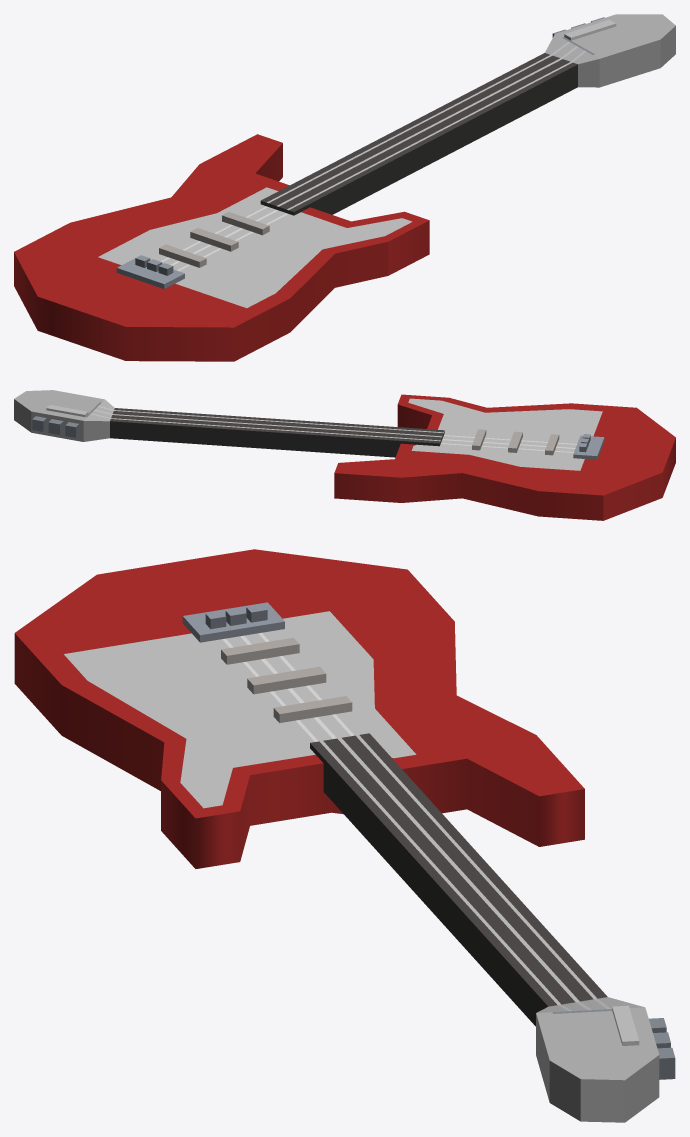
File: instrument_guitar_ultra_low_poly.glb
The picture shows the model from 3 angles, top to bottom: view 1: azimuth 30°, elevation 25°; view 2: azimuth 150°, elevation 25°; view 3: azimuth 270°, elevation 25°; orthographic projection. The views are drawn at different scales.
Visible parts, largest first — view 1: Object_2; view 2: Object_2; view 3: Object_2.
Boxes of the visible parts, box(x1,y1,x2,y2) form: Object_2: box(14, 14, 675, 361); Object_2: box(14, 390, 675, 520); Object_2: box(14, 549, 675, 1122).
Size of the model in its own units: 4.8 by 0.2818 by 2.47.
Materials: 1 (1 with a texture image).
